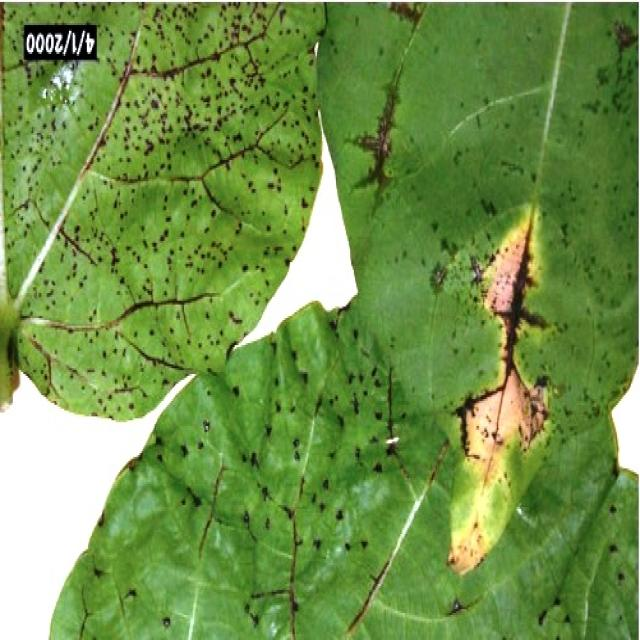Bacterial Blight: (420, 190, 572, 594), (125, 16, 298, 285)
